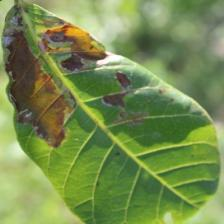leaf miner: (0, 20, 83, 158), (98, 68, 170, 140), (33, 17, 112, 82)
